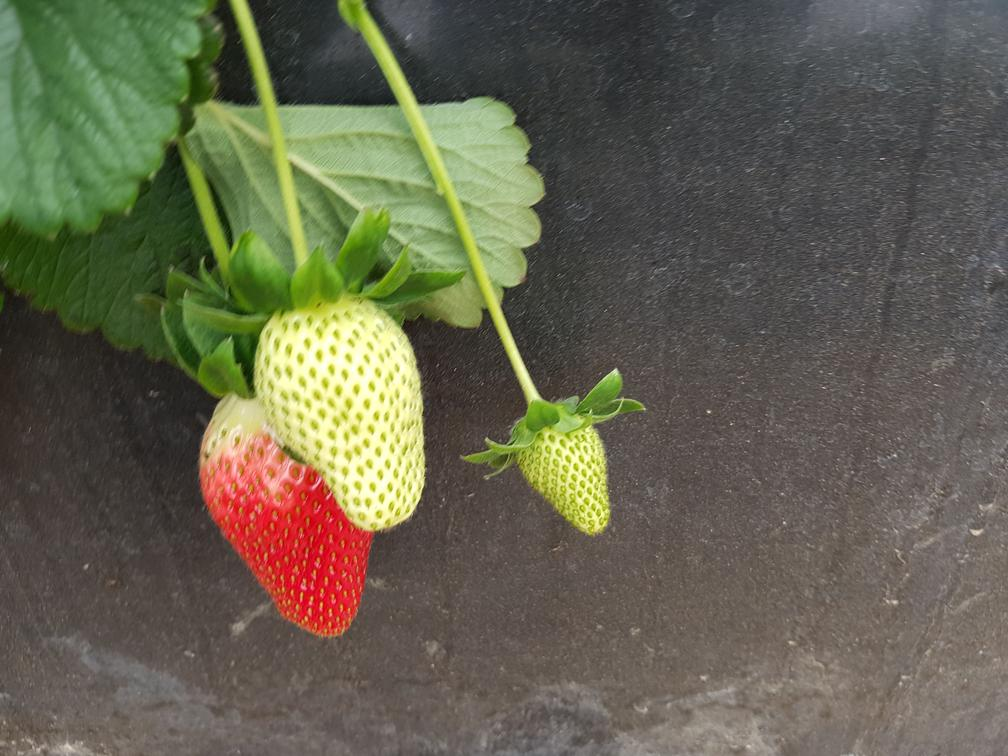Ripe: (197, 450, 335, 640)
Unripe: (299, 309, 427, 527), (513, 415, 625, 538)
